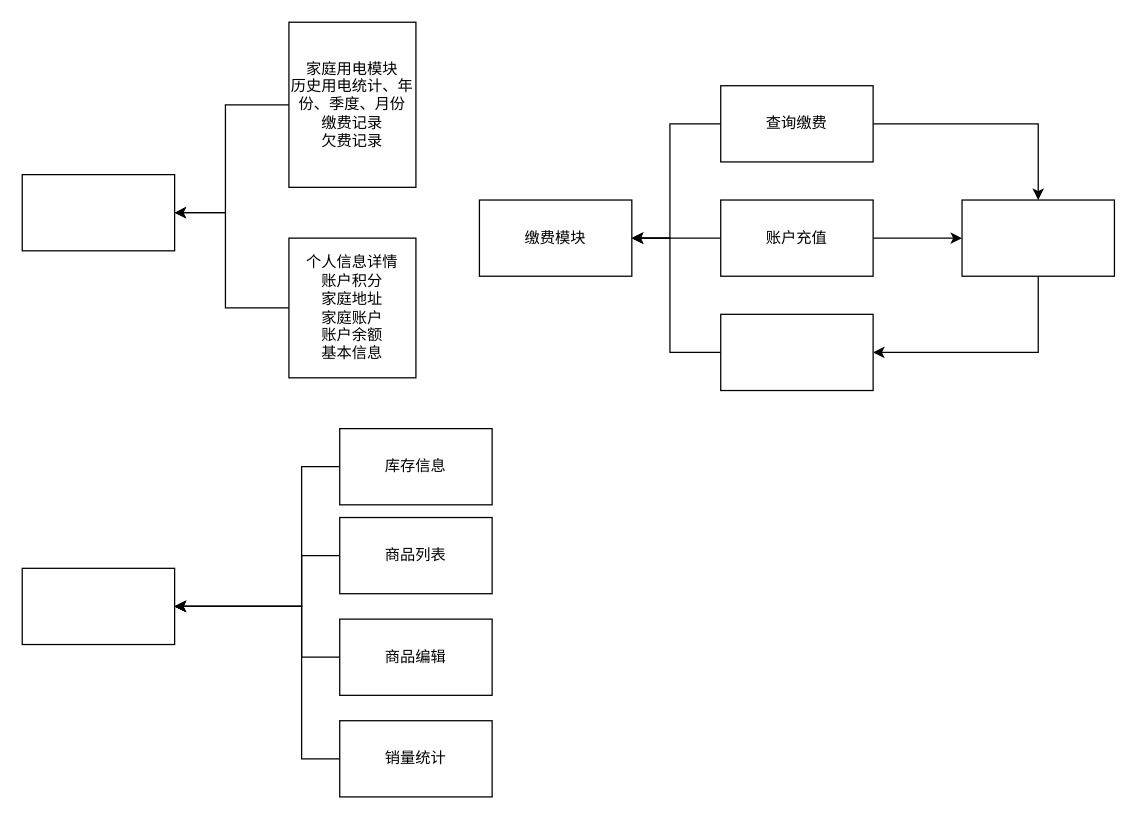
The diagram is 1137 pixels wide and 819 high, and some of its shapes have lost their labels. Here are the shapes that lost their labels. From the top down, the box of each, then its label:
(21, 173, 175, 251): 个人信息
(961, 199, 1114, 276): 充值缴费送积分 积分兑换商品
(719, 313, 873, 391): 积分服务
(21, 567, 175, 645): 商品服务
